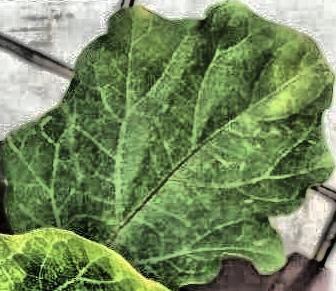HEALTHY: (1, 0, 336, 291)
